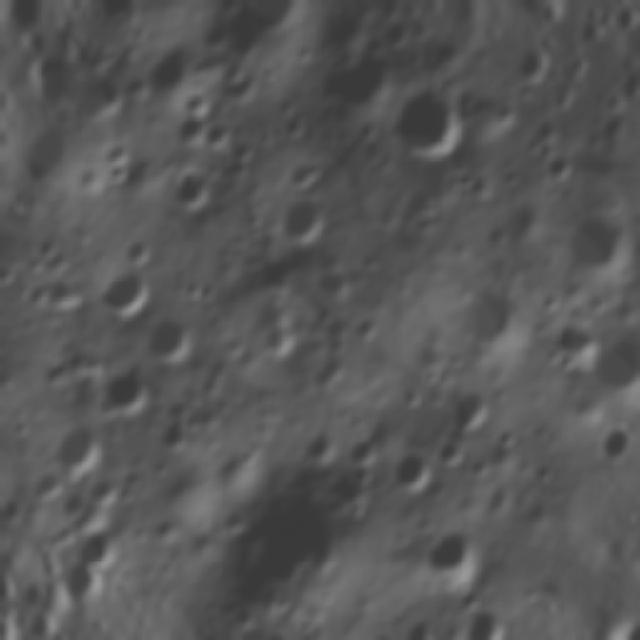crater: (373, 66, 484, 180), (438, 267, 538, 370), (305, 32, 406, 132), (546, 192, 640, 296), (201, 0, 324, 75), (412, 514, 502, 603), (126, 29, 211, 114), (569, 316, 640, 413), (263, 183, 342, 259), (538, 307, 613, 381), (156, 151, 229, 227), (41, 413, 118, 485), (91, 353, 163, 424), (64, 511, 139, 578), (435, 376, 503, 447), (134, 308, 203, 377), (94, 259, 160, 326), (379, 442, 444, 506), (29, 259, 92, 324), (332, 428, 390, 486), (287, 419, 342, 478), (452, 597, 519, 640), (532, 144, 582, 193), (20, 458, 66, 508), (109, 224, 157, 271), (427, 430, 471, 476), (393, 607, 449, 640), (347, 306, 388, 348), (56, 486, 96, 526), (445, 160, 484, 197), (369, 631, 426, 640)
